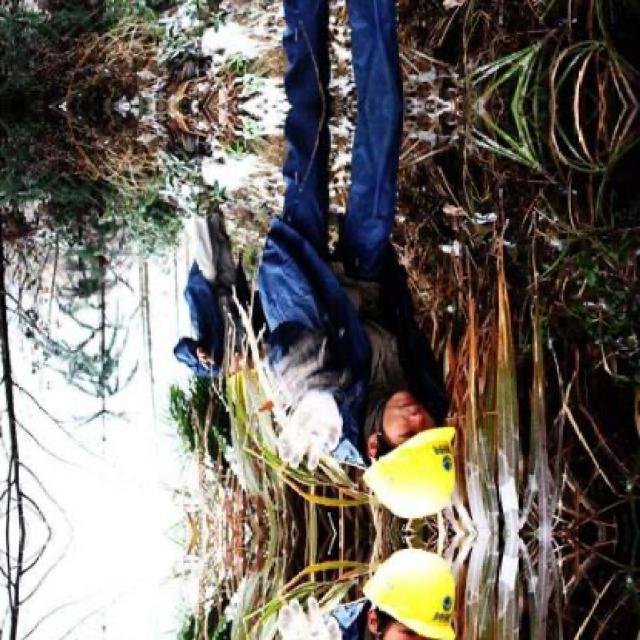con casco: (343, 406, 468, 524)
